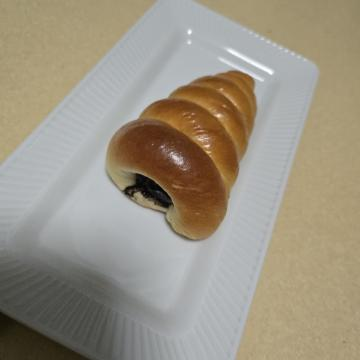cream horn: (62, 91, 266, 276)
